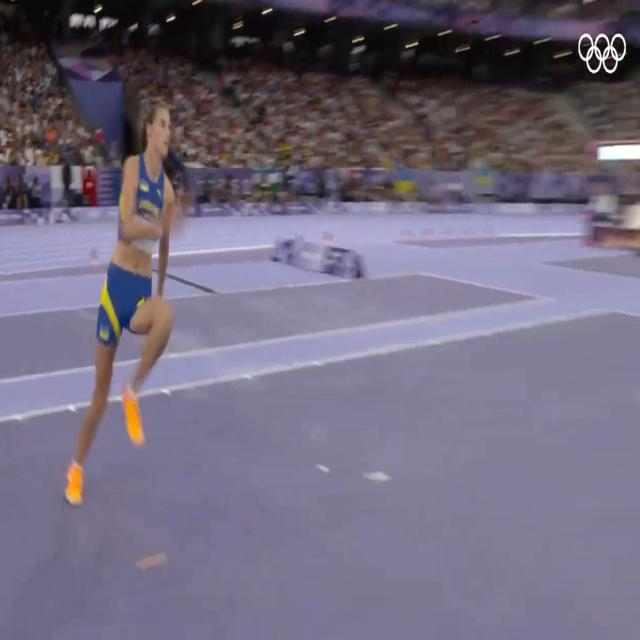run: (65, 92, 191, 506)
